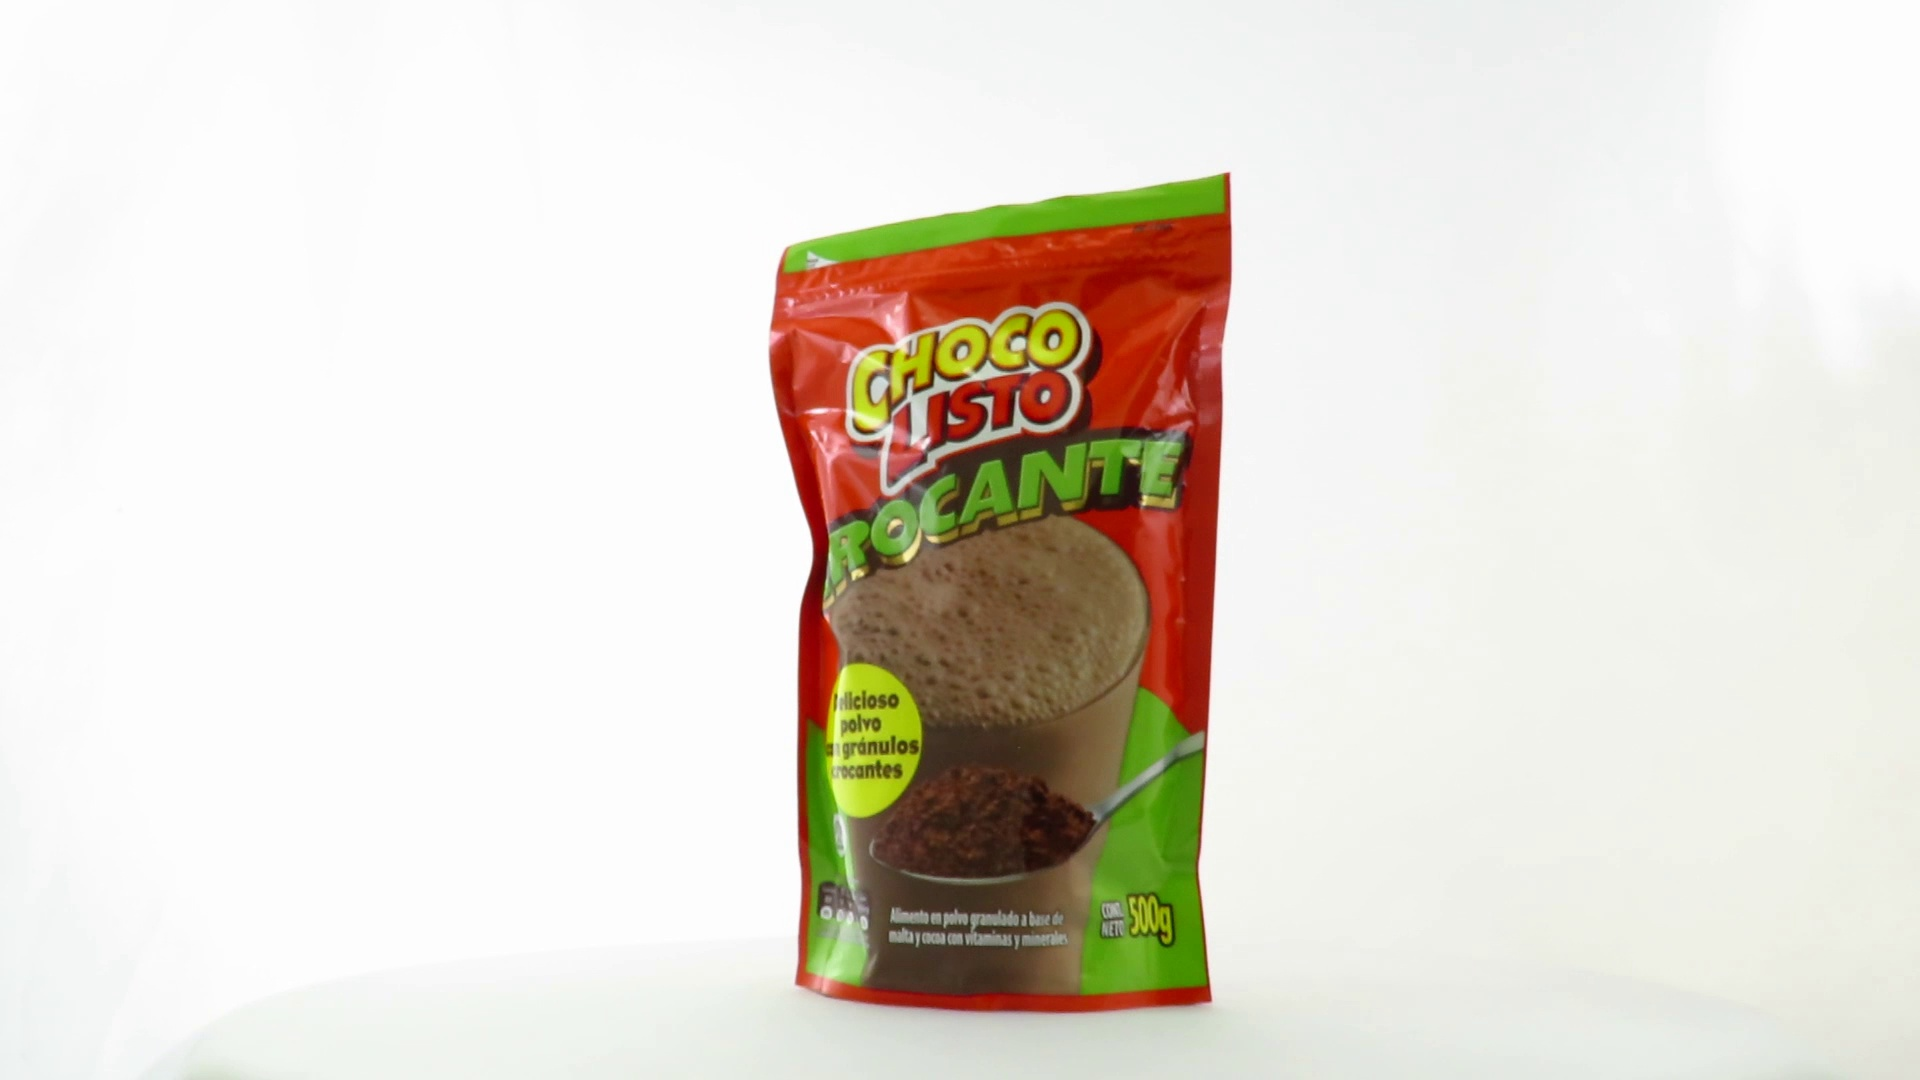COL0170102DYP50000: (764, 167, 1238, 1021)
